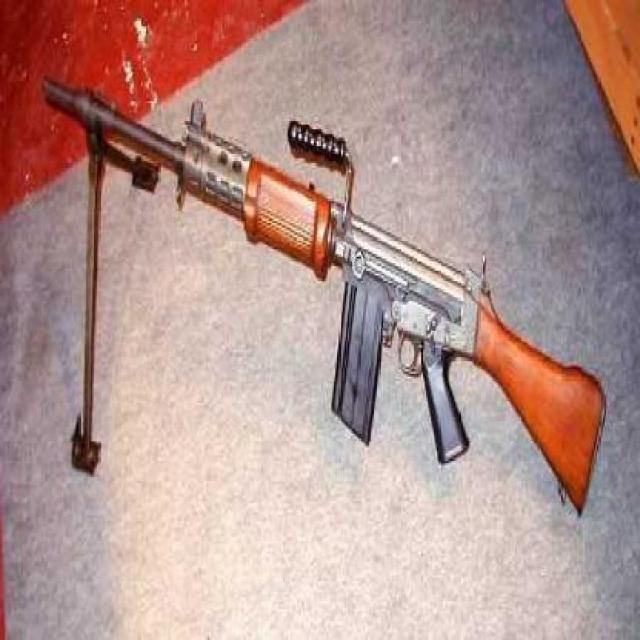weapon: (34, 69, 607, 502)
